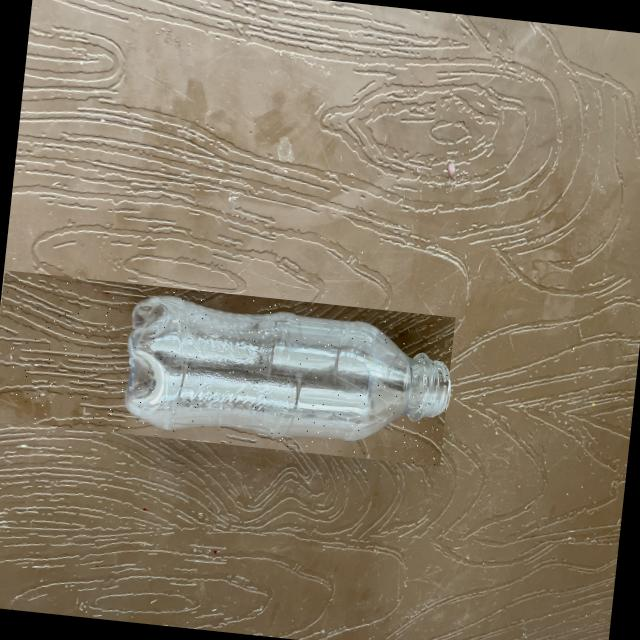PET_ClearBottle: (0, 268, 455, 465)
